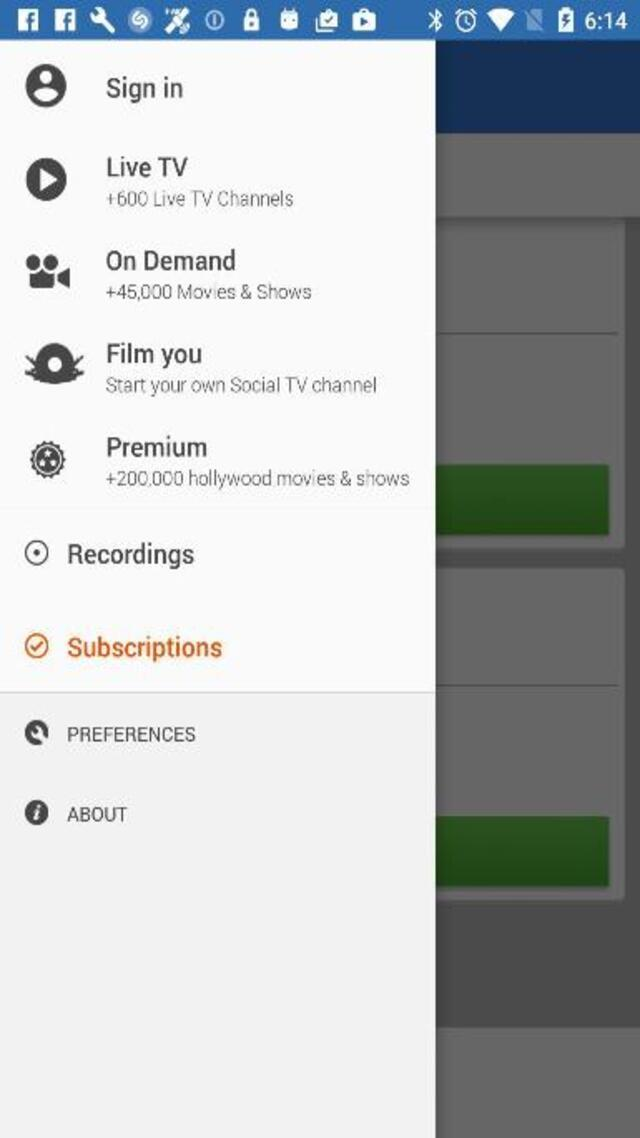Icon: (24, 341, 86, 384), (25, 64, 68, 108), (26, 158, 68, 202), (26, 254, 70, 290), (29, 439, 66, 478), (24, 632, 50, 662), (24, 538, 50, 566), (24, 800, 49, 825), (25, 720, 48, 745)
Text: (106, 470, 409, 491), (106, 376, 377, 396), (67, 636, 222, 662), (106, 281, 310, 299), (68, 541, 194, 569), (105, 188, 294, 206), (105, 248, 238, 271), (107, 342, 202, 369), (106, 75, 182, 103), (108, 436, 208, 457), (68, 727, 196, 742), (105, 155, 188, 176), (67, 806, 129, 822)
